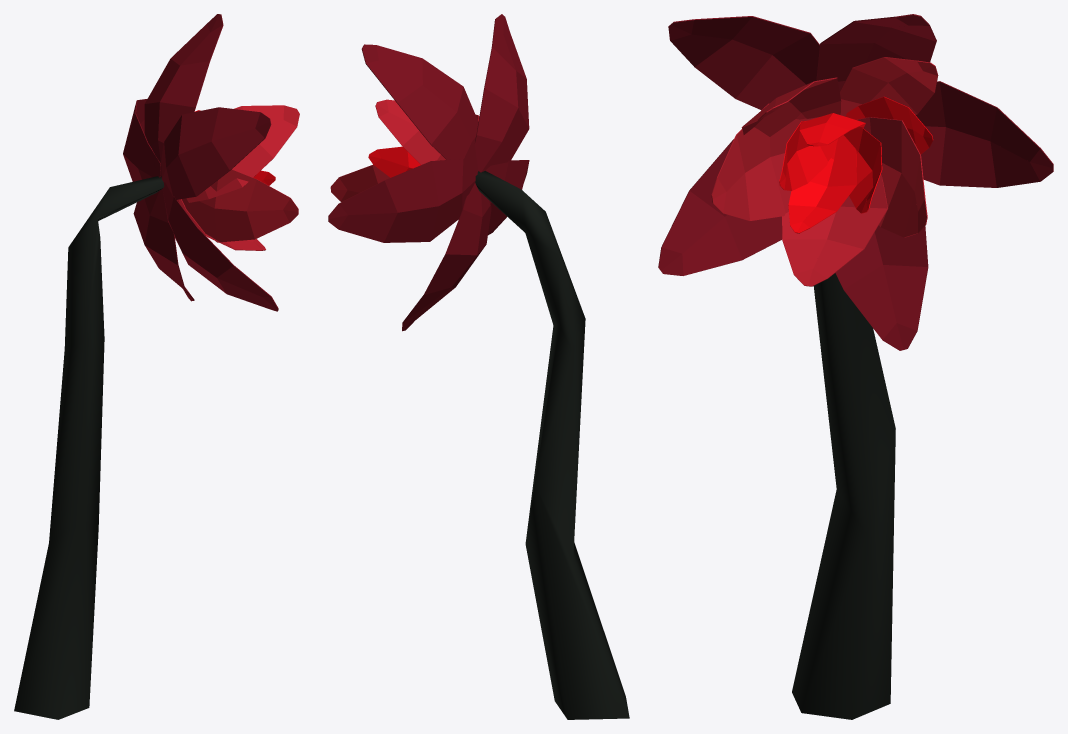
File: flower.fbx
The picture shows the model from 3 angles, left to right: view 1: azimuth 30°, elevation 25°; view 2: azimuth 150°, elevation 25°; view 3: azimuth 270°, elevation 25°; orthographic projection. The views are drawn at different scales.
Visible parts, largest first — view 1: Stem, Petal.004, Petal.010, Petal.005, Petal.003, Petal.011, Petal.002, Petal Large, Petal.009; view 2: Stem, Petal Large, Petal.005, Petal.004, Petal.002, Petal Medium, Petal.001, Petal.003, Petal Small; view 3: Stem, Petal.004, Petal Large, Petal.002, Petal.003, Petal.010, Petal.009, Petal.005, Petal.001, Petal Medium, Petal.006, Petal.011 (+4 smaller).
Boxes of the visible parts, <box> form: Stem: <box>14,176,164,719</box>; Petal.004: <box>161,107,271,199</box>; Petal.010: <box>177,169,298,242</box>; Petal.005: <box>144,14,223,176</box>; Petal.003: <box>162,182,278,311</box>; Petal.011: <box>186,105,299,202</box>; Petal.002: <box>133,189,194,301</box>; Petal Large: <box>123,99,160,181</box>; Petal.009: <box>178,199,265,250</box>; Stem: <box>475,171,629,719</box>; Petal Large: <box>328,159,477,242</box>; Petal.005: <box>361,44,478,171</box>; Petal.004: <box>475,14,529,172</box>; Petal.002: <box>402,183,491,331</box>; Petal Medium: <box>375,99,446,164</box>; Petal.001: <box>330,165,390,201</box>; Petal.003: <box>485,160,529,235</box>; Petal Small: <box>368,146,420,177</box>; Stem: <box>792,273,895,719</box>; Petal.004: <box>668,16,819,110</box>; Petal Large: <box>916,81,1053,187</box>; Petal.002: <box>835,225,928,350</box>; Petal.003: <box>658,139,782,275</box>; Petal.010: <box>711,103,818,221</box>; Petal.009: <box>782,174,887,286</box>; Petal.005: <box>816,14,936,91</box>; Petal.001: <box>857,117,927,237</box>; Petal Medium: <box>839,57,938,116</box>; Petal.006: <box>788,135,856,233</box>; Petal.011: <box>741,77,841,136</box>.
Size of the model in its own units: 1772 by 4028 by 1778.
